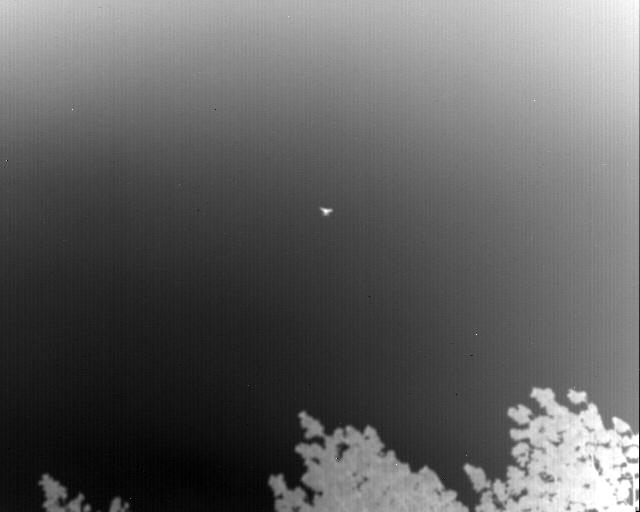plane: (319, 205, 334, 215)
